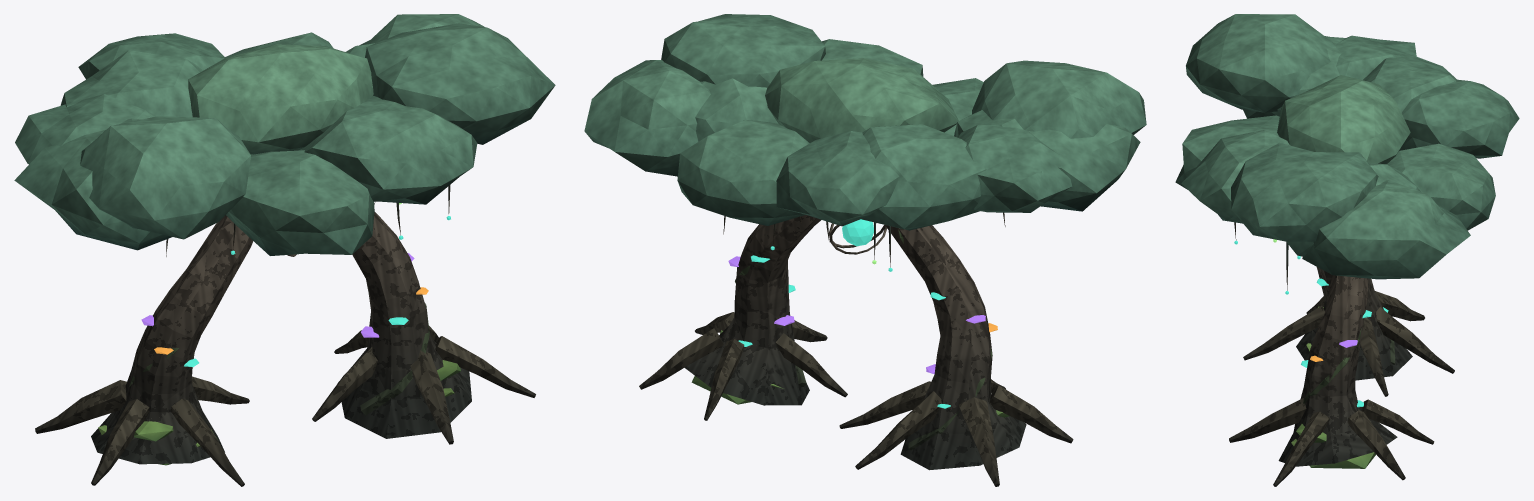
The model's file is heart_arch_tree.glb.
3 renders of one model, left to right at view 1: azimuth 30°, elevation 25°; view 2: azimuth 150°, elevation 25°; view 3: azimuth 270°, elevation 25°, orthographic. The views are drawn at different scales.
Parts seen in each view (by area): view 1: heart_arch_tree; view 2: heart_arch_tree; view 3: heart_arch_tree.
Part boxes in pixels (left/top/right/bottom): heart_arch_tree: left=14, top=14, right=555, bottom=486; heart_arch_tree: left=584, top=14, right=1146, bottom=486; heart_arch_tree: left=1175, top=14, right=1519, bottom=486.
Bounding box in the file's own units: 19.7 × 14.37 × 13.79.
Materials: 4 (4 with a texture image).
